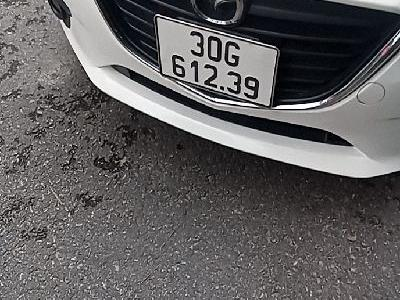lisence: (152, 12, 282, 110)
